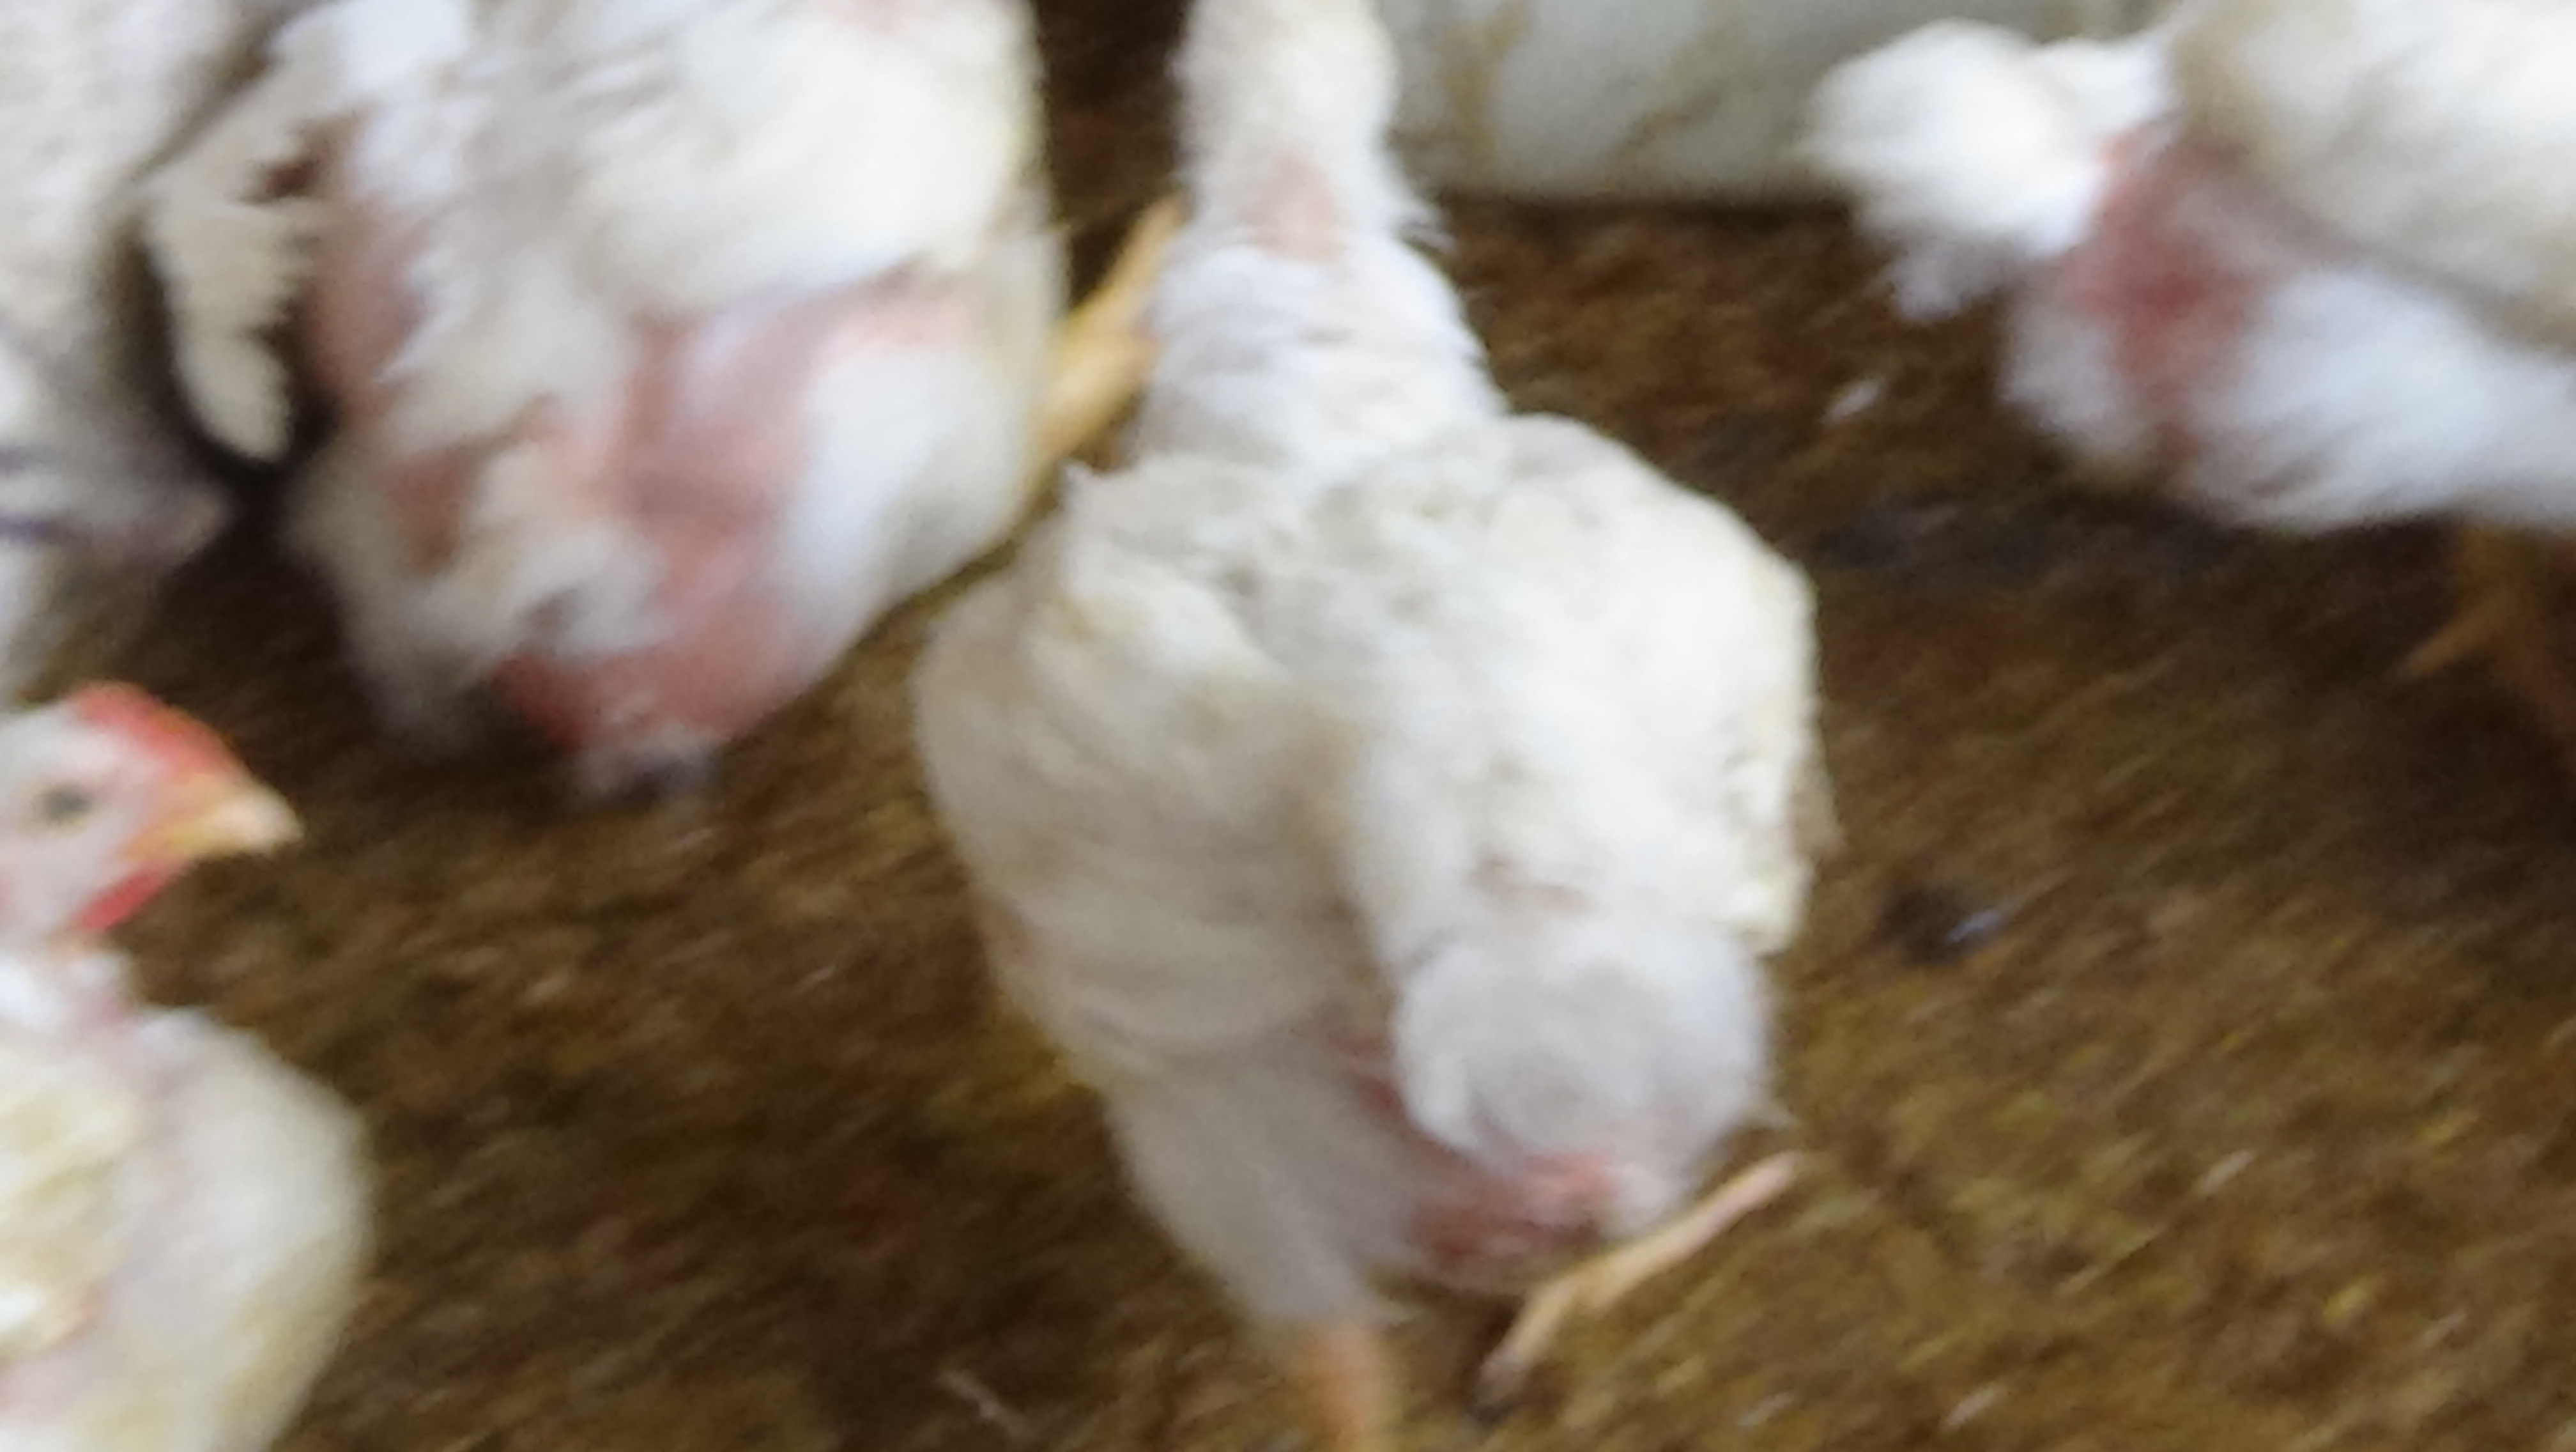Pollos: (872, 0, 1838, 1443), (223, 0, 1253, 777), (1787, 0, 2565, 684), (0, 616, 465, 1447)
